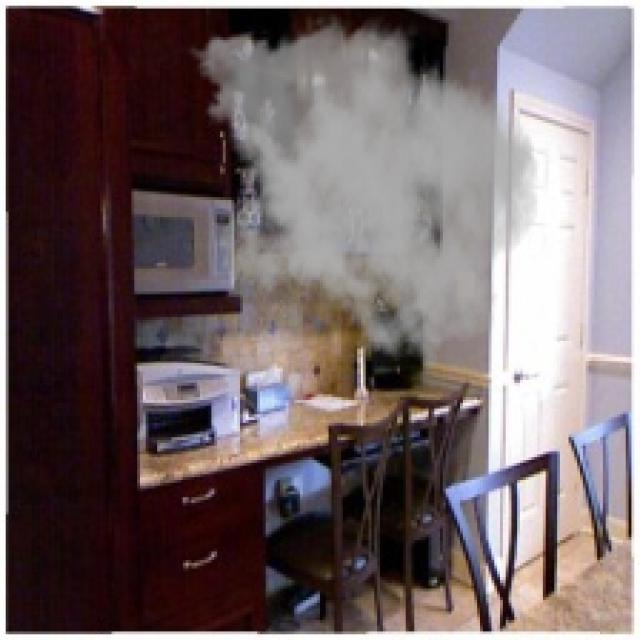smoke: (183, 11, 540, 372)
